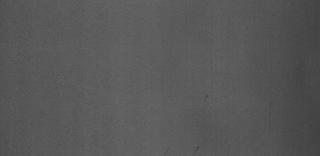water spot: (200, 89, 218, 101), (192, 145, 204, 155), (162, 148, 172, 154)
